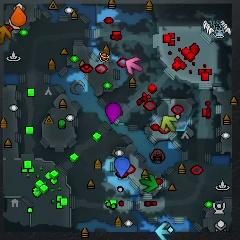p1: (115, 158, 131, 177)
p3: (105, 102, 122, 122)
p5: (11, 6, 27, 27)
x1: (126, 57, 143, 74)
x2: (162, 116, 177, 132)
x3: (155, 222, 172, 240)
x4: (141, 174, 158, 192)
x5: (0, 26, 12, 45)
